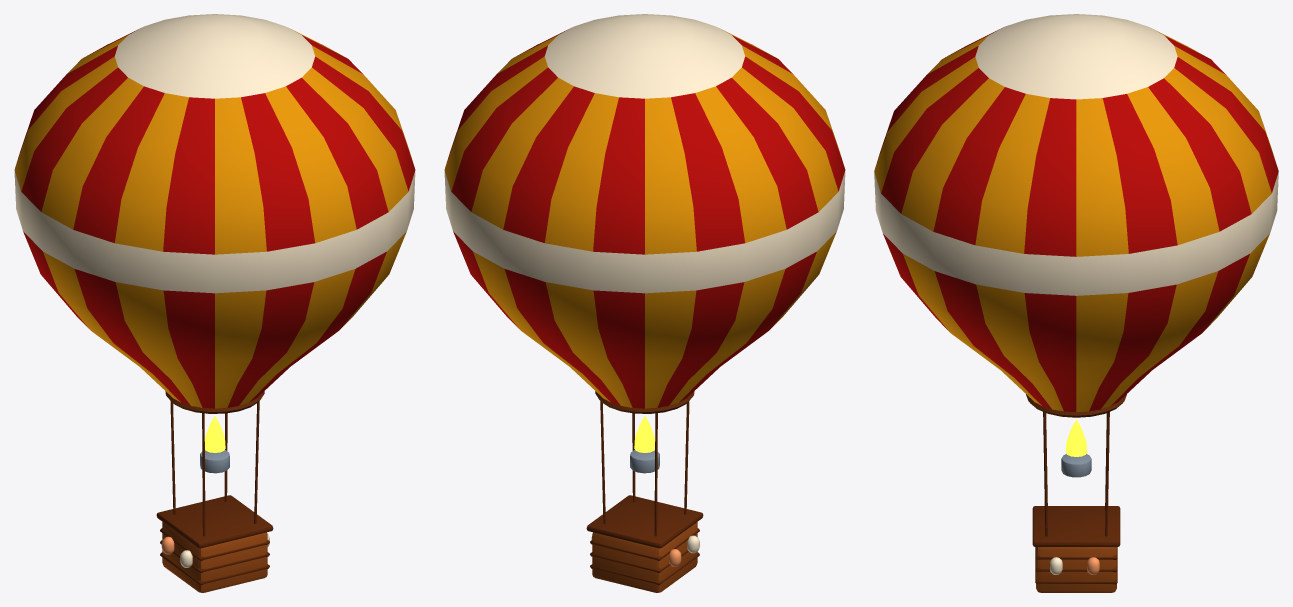
The model's file is HotAirBalloon.fbx.
3 renders of one model, left to right at view 1: azimuth 30°, elevation 25°; view 2: azimuth 150°, elevation 25°; view 3: azimuth 270°, elevation 25°, orthographic.
Visible parts, largest first — view 1: HotAirBalloon; view 2: HotAirBalloon; view 3: HotAirBalloon.
Boxes of the visible parts, left/top/right/bottom form: HotAirBalloon: left=14, top=14, right=415, bottom=592; HotAirBalloon: left=444, top=14, right=845, bottom=592; HotAirBalloon: left=874, top=14, right=1278, bottom=592.
Size of the model in its own units: 12 by 18 by 12.
